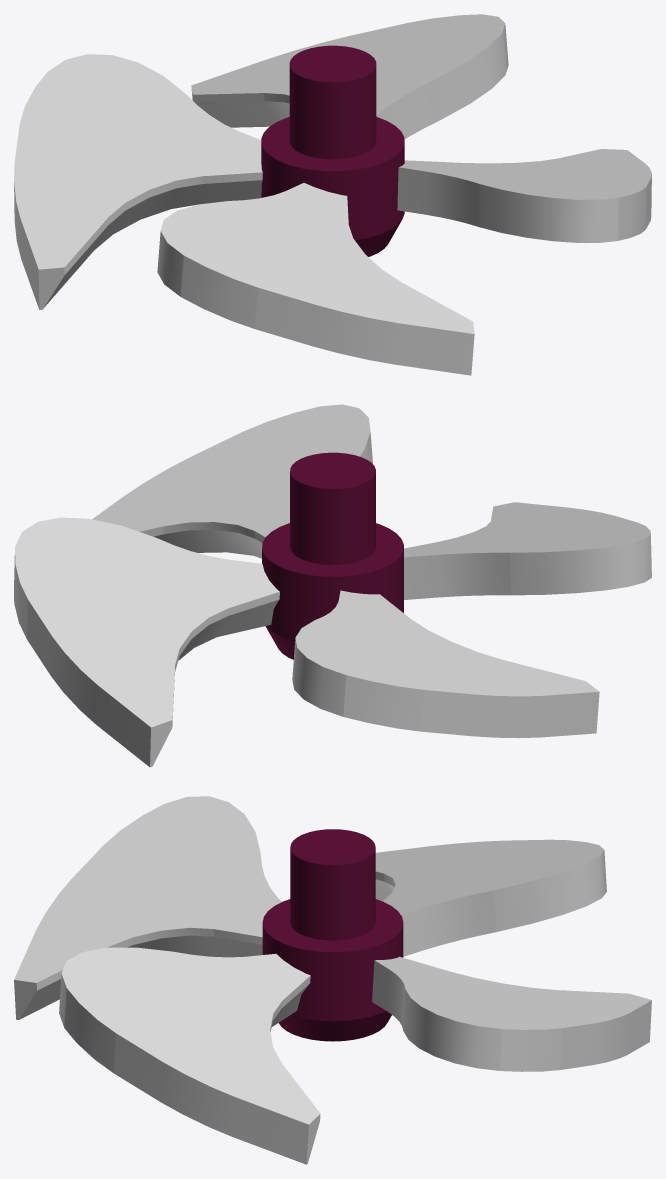
The model's file is CeilingFan_Blade_1x1.fbx.
3 renders of one model, top to bottom at view 1: azimuth 30°, elevation 25°; view 2: azimuth 150°, elevation 25°; view 3: azimuth 270°, elevation 25°, orthographic. The views are drawn at different scales.
Visible parts, largest first — view 1: FanBlade_1x1; view 2: FanBlade_1x1; view 3: FanBlade_1x1.
Part boxes in pixels (bbox=[...]): FanBlade_1x1: bbox=[14, 14, 651, 375]; FanBlade_1x1: bbox=[14, 404, 651, 767]; FanBlade_1x1: bbox=[14, 796, 651, 1164].
Bounding box in the file's own units: 560 × 178 × 560.
